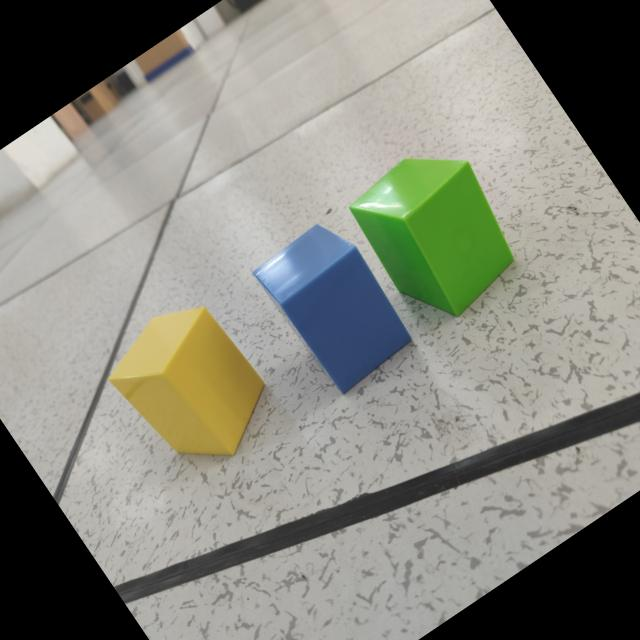blue: (255, 225, 412, 395)
green: (350, 159, 516, 318)
yellow: (110, 306, 266, 458)
